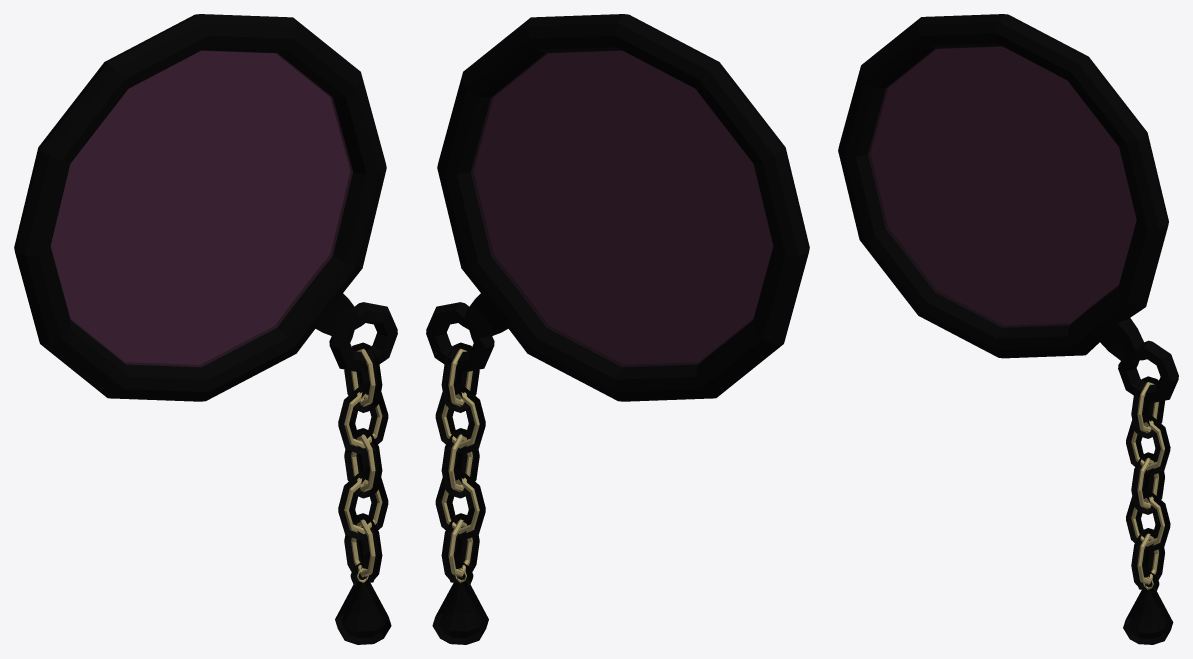
File: monocle(1).fbx
3 views of the same model, side by side, from view 1: azimuth 30°, elevation 25°; view 2: azimuth 150°, elevation 25°; view 3: azimuth 330°, elevation 25° (orthographic). The views are drawn at different scales.
Visible parts, largest first — view 1: Monocle_outline, Monocle; view 2: Monocle_outline, Monocle; view 3: Monocle_outline, Monocle.
Part boxes in pixels (left/top/right/bottom): Monocle_outline: left=14, top=14, right=397, bottom=644; Monocle: left=50, top=50, right=384, bottom=638; Monocle_outline: left=426, top=14, right=809, bottom=644; Monocle: left=439, top=50, right=773, bottom=638; Monocle_outline: left=838, top=14, right=1178, bottom=644; Monocle: left=868, top=46, right=1167, bottom=639.
Bounding box in the file's own units: 100 × 168 × 13.35.
